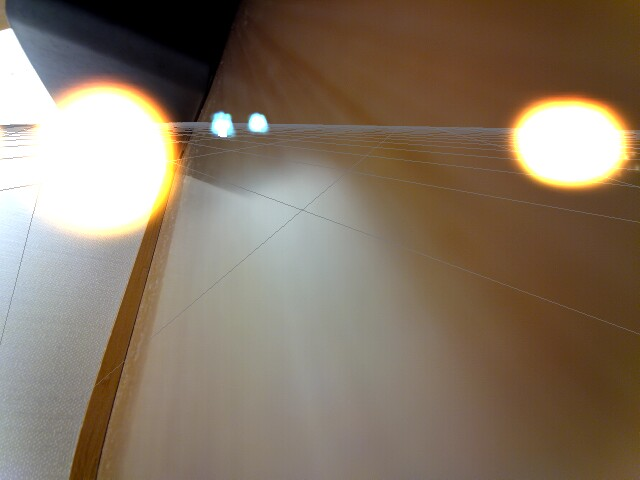fire: (29, 82, 188, 238), (505, 92, 629, 187)
